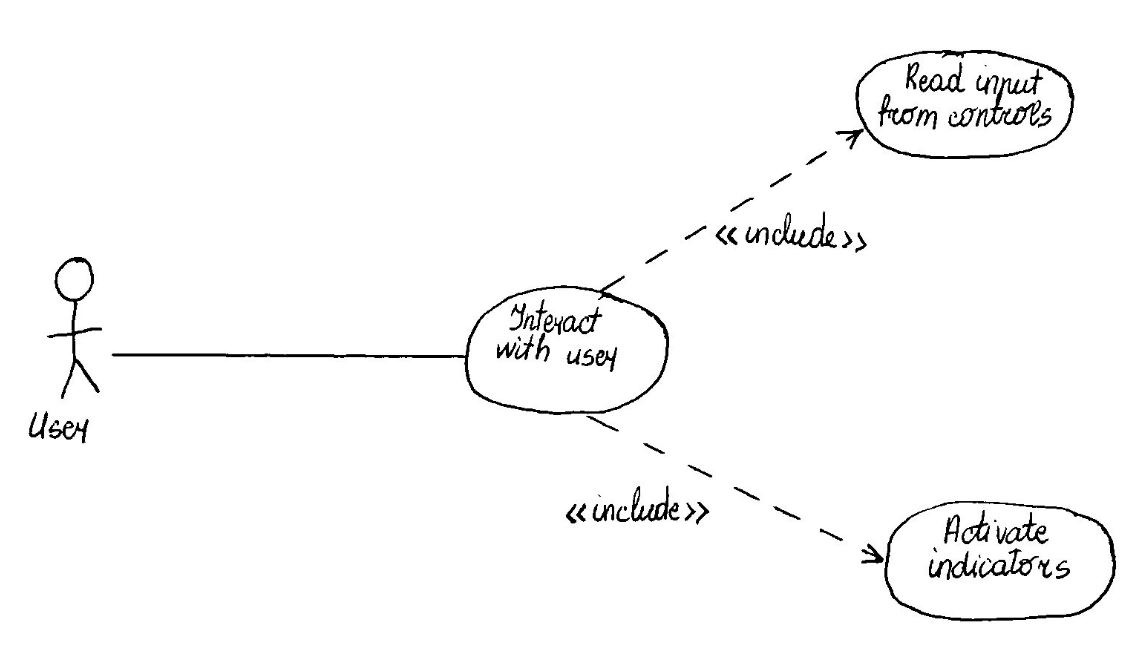actor: (46, 253, 104, 408)
association: (587, 414, 888, 568), (604, 127, 866, 291), (106, 340, 467, 369)
text: (870, 60, 1057, 135), (921, 511, 1078, 594), (495, 298, 628, 379), (564, 485, 712, 532), (714, 214, 873, 255), (20, 401, 107, 460)
use_case: (882, 499, 1117, 623), (465, 285, 671, 416), (852, 48, 1075, 160)
